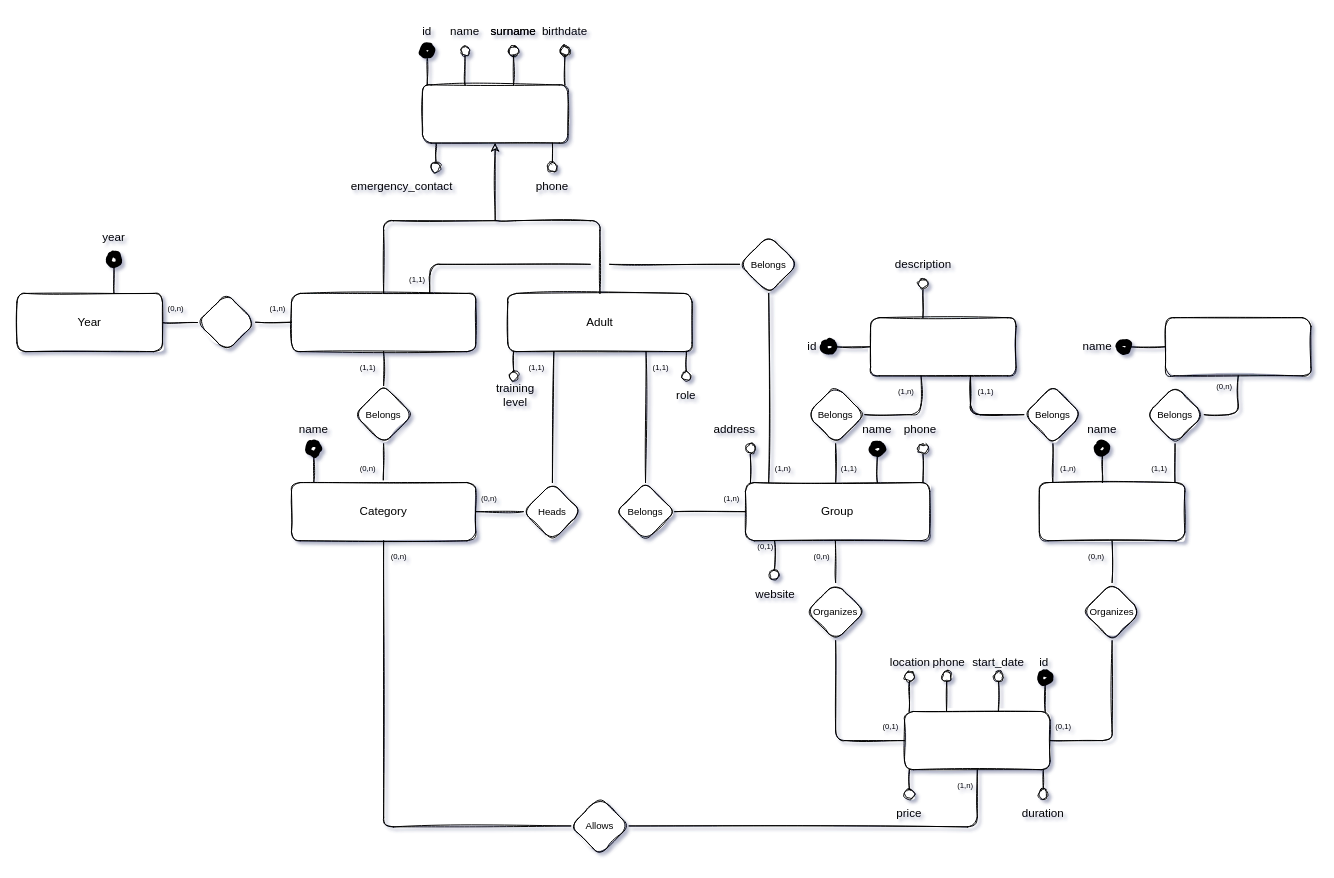
This 1334x878 diagram has some shape labels left out. The centre of each missing label's shape, as x and y in pixels:
"Activity" goes at [977,740].
"Boyscout" goes at [383,322].
"Nation" goes at [1237,346].
"Organization" goes at [1111,511].
"Paid" goes at [226,322].
"Person" goes at [494,113].
"Zone" goes at [943,346].
